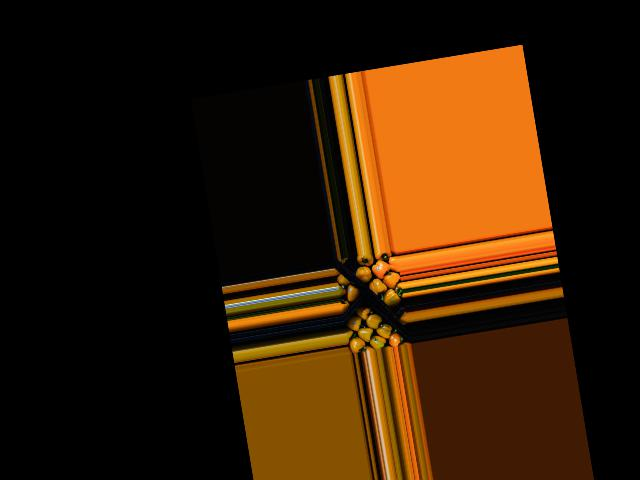bell_pepper: (345, 332, 364, 353)
